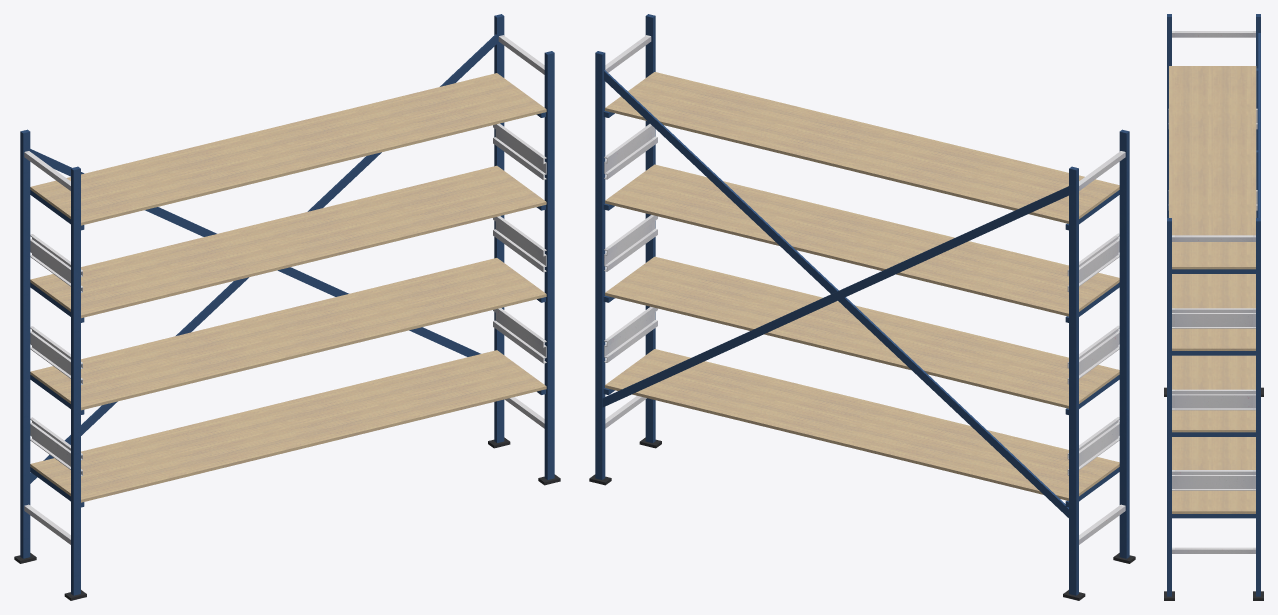
File: BigShelves03.glb
The picture shows the model from 3 angles, left to right: view 1: azimuth 30°, elevation 25°; view 2: azimuth 150°, elevation 25°; view 3: azimuth 270°, elevation 25°; orthographic projection. The views are drawn at different scales.
Parts seen in each view (by area): view 1: BigShelves03; view 2: BigShelves03; view 3: BigShelves03.
Part boxes in pixels (box(x1,y1,x2,y2)): BigShelves03: box(14, 14, 560, 600); BigShelves03: box(589, 14, 1135, 600); BigShelves03: box(1164, 14, 1263, 600).
Bounding box in the file's own units: 9.03 × 7.54 × 1.81.
4 materials, 4 textured.
